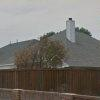Chimney: (61, 13, 89, 49)
